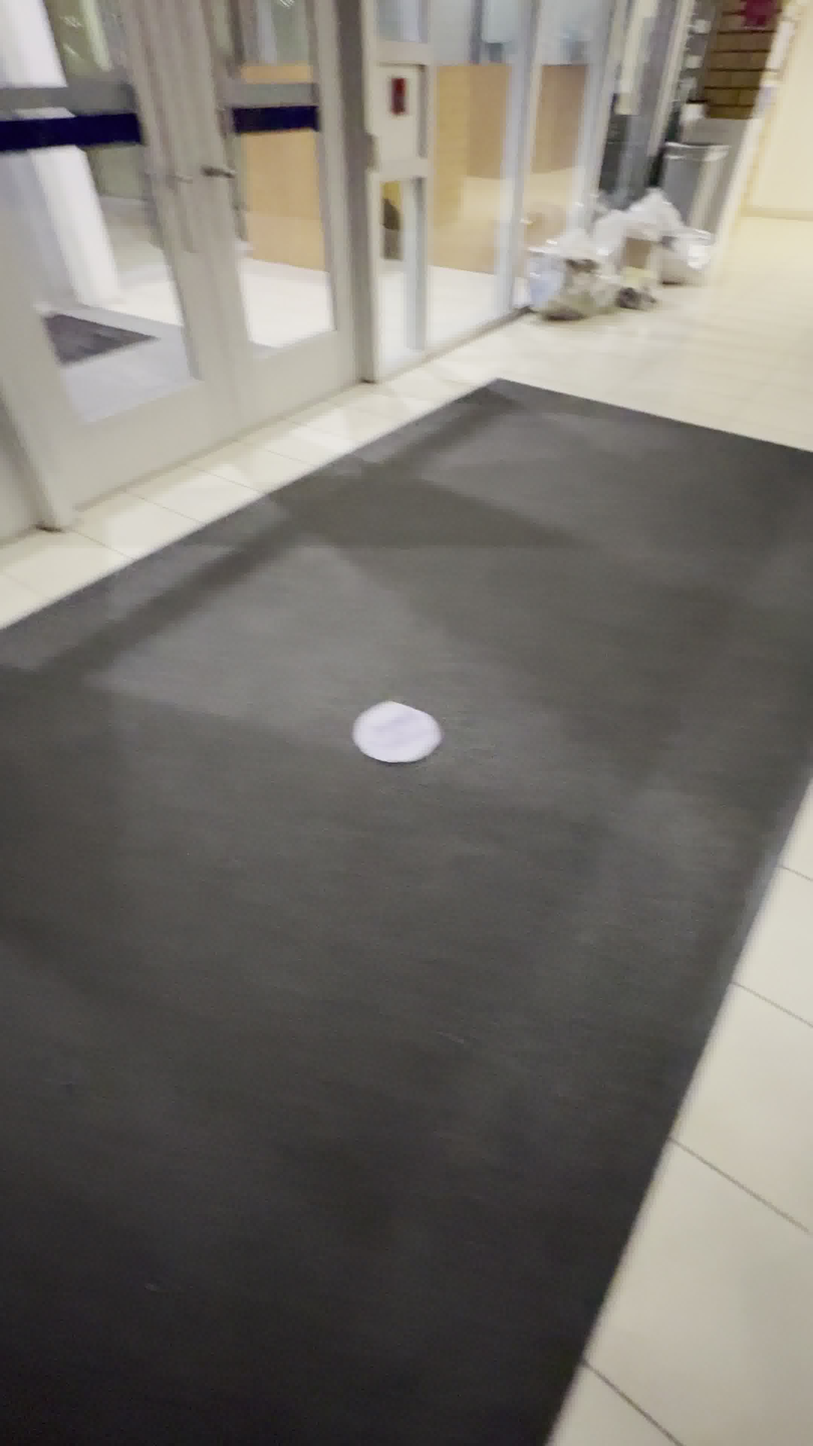Target: (351, 698, 442, 764)
